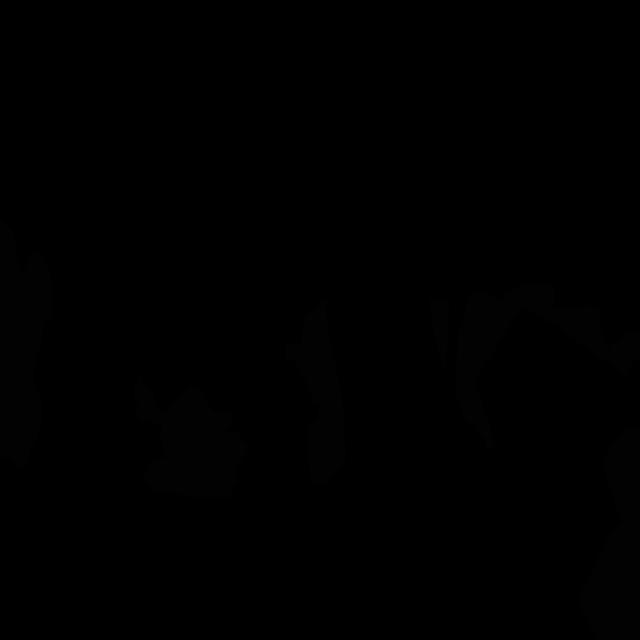cardboard: (456, 282, 629, 451), (134, 374, 250, 498), (576, 426, 640, 640), (0, 219, 55, 468), (284, 300, 346, 487), (462, 289, 507, 326), (429, 297, 449, 371), (608, 329, 640, 368)
